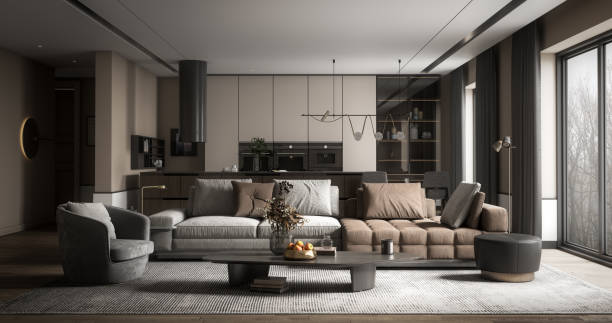chair: (55, 200, 155, 287)
floor lamp: (491, 133, 515, 233)
flower vase: (261, 193, 303, 253)
sofa: (148, 175, 512, 266)
table: (200, 247, 425, 292)
